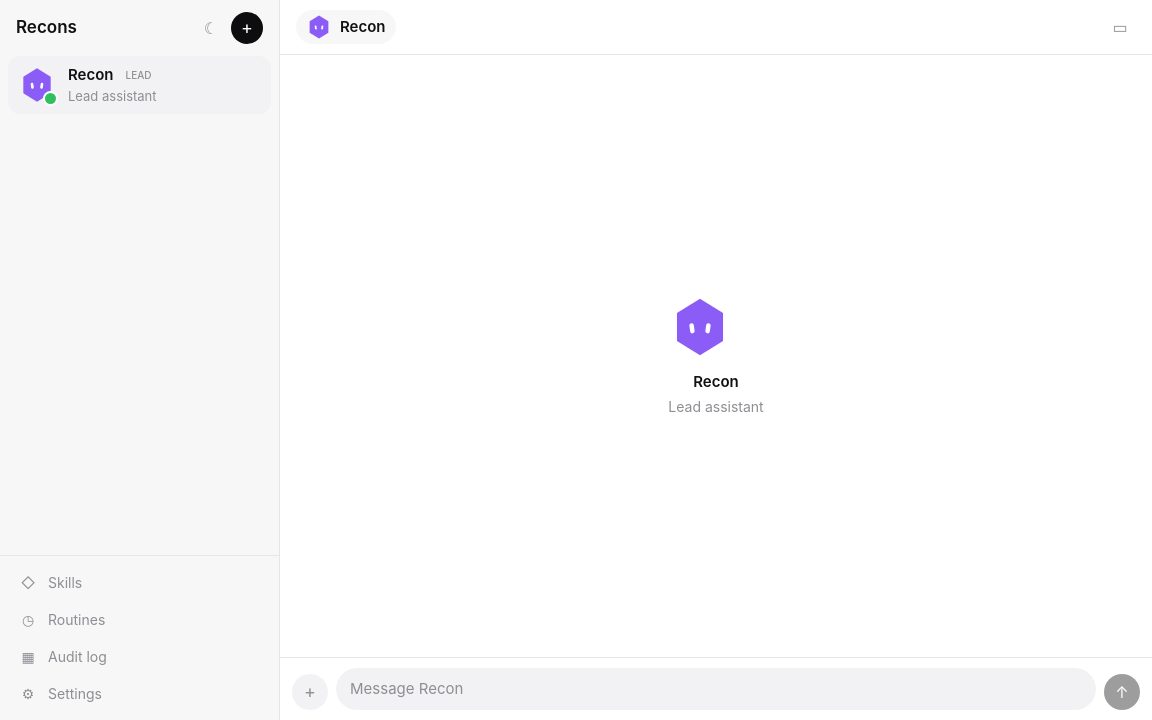
App shell › navigates to the audit surface
Click the button "▦ Audit log".
click(77, 656)  # box [8,638,271,675]
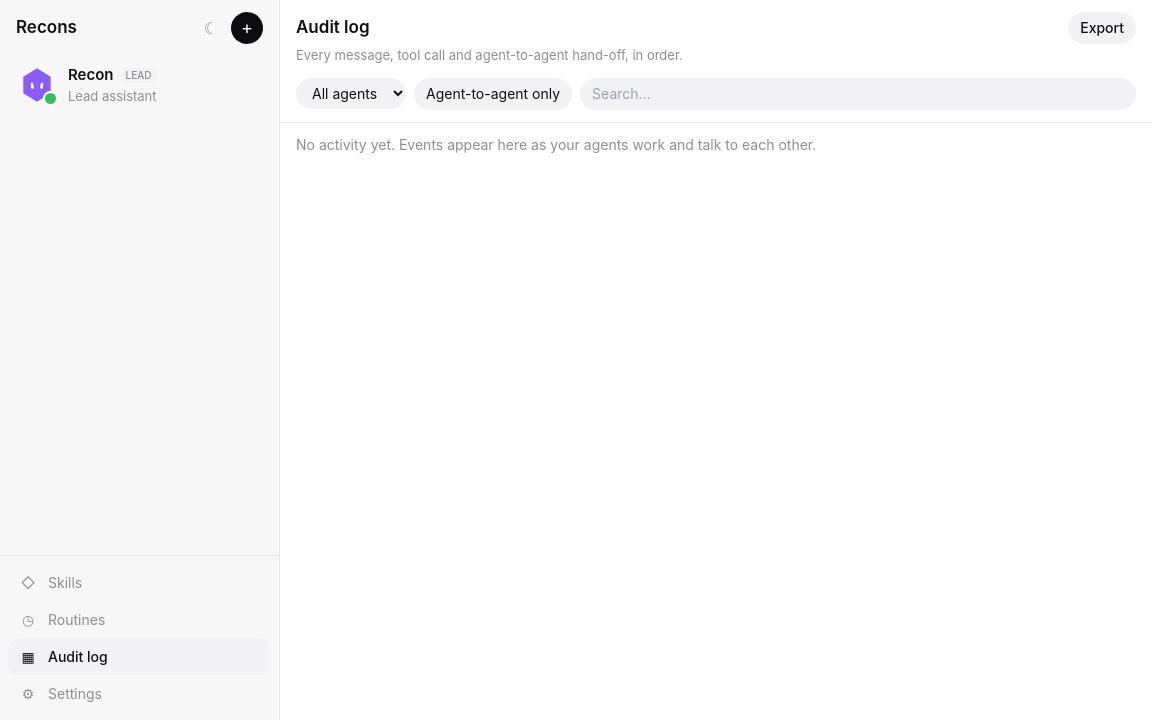
Expected: the text "Every message, tool call and agent-to-agent" is shown, [296,47,683,63]
